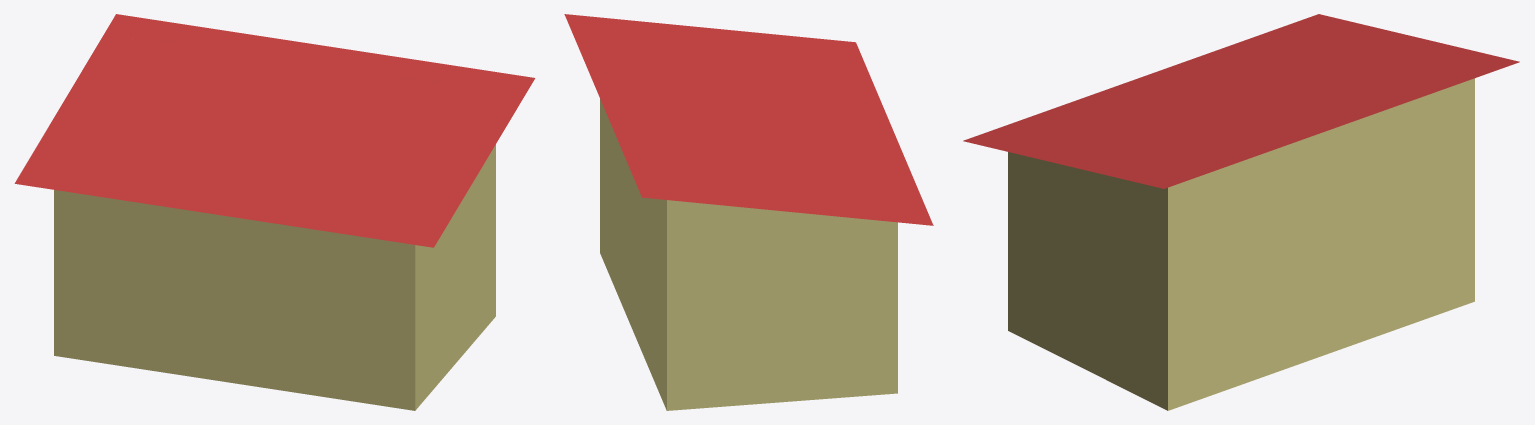
3 renders of one model, left to right at view 1: azimuth 30°, elevation 25°; view 2: azimuth 150°, elevation 25°; view 3: azimuth 270°, elevation 25°, orthographic. The views are drawn at different scales.
Bounding box in the file's own units: 16.64 × 17.21 × 8.21.
